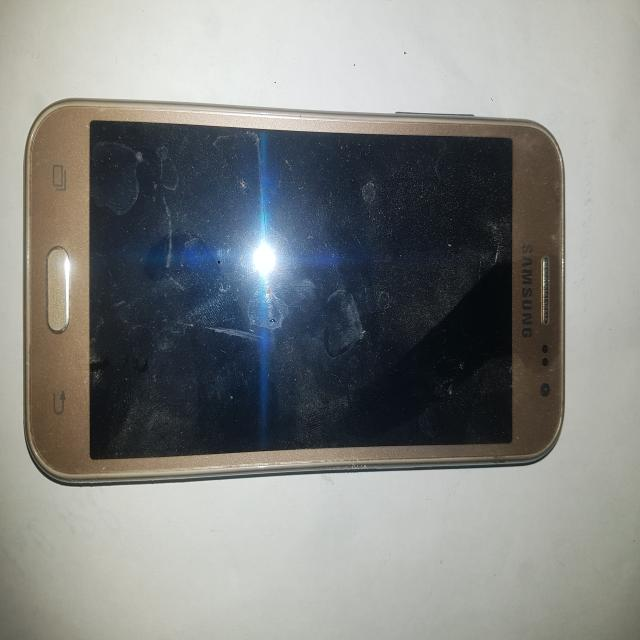electronic: (23, 96, 566, 486)
